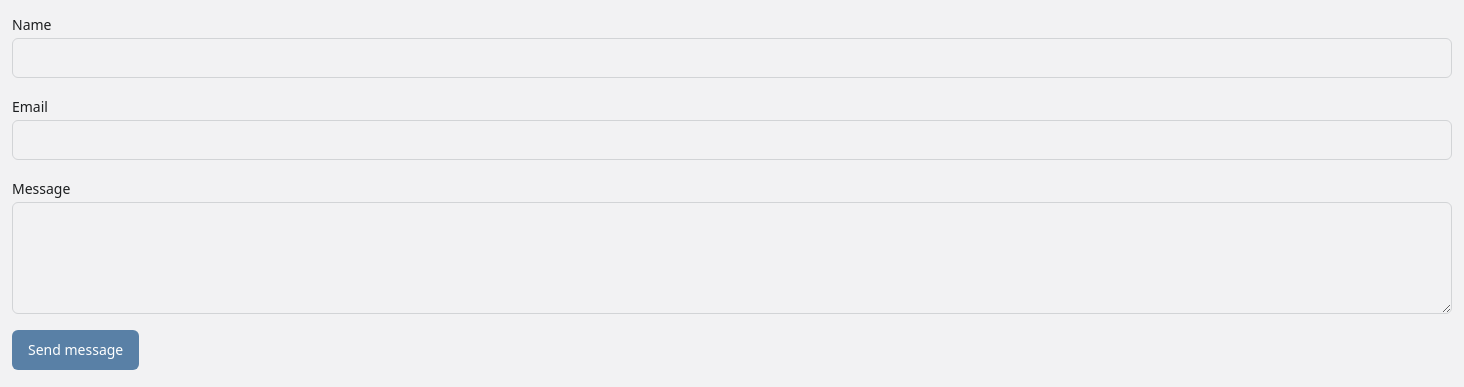
Test: ContactForm › surfaces a recoverable error when delivery fails
This screenshot has width=1464, height=387.
Type "Ada Lovelace" into the field labelled "Name" at (732, 58), box [12,38,1452,78]
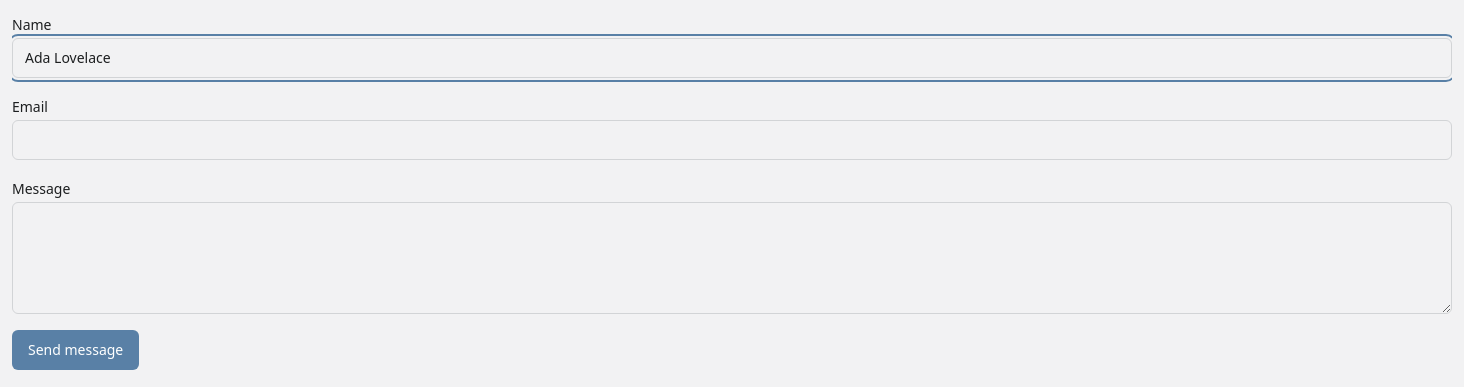
Type "ada@example.com" into the field labelled "Email" at (732, 140), box [12,120,1452,160]
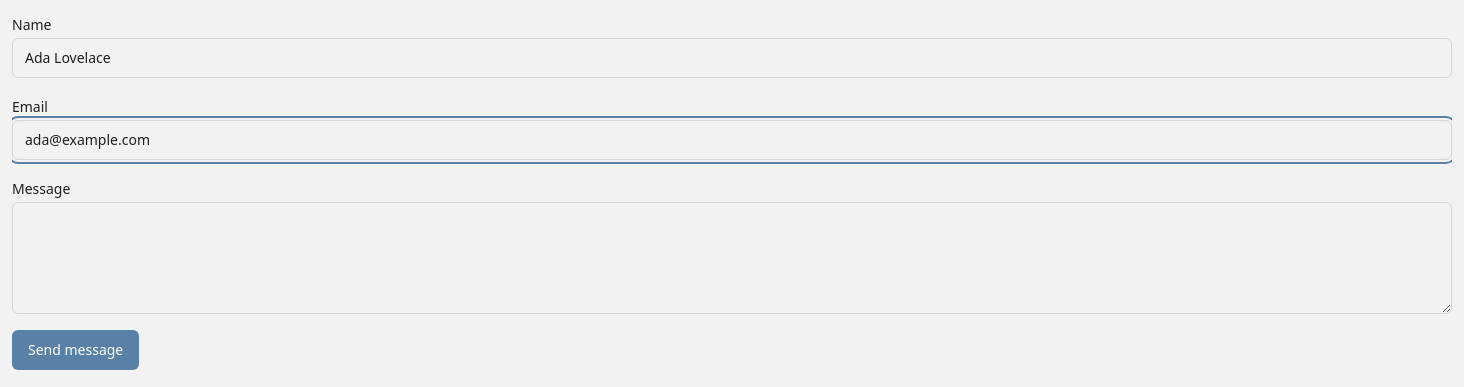
Type "A message long enough to pass validation." into the text box labelled "Message" at (732, 258), box [12,202,1452,314]
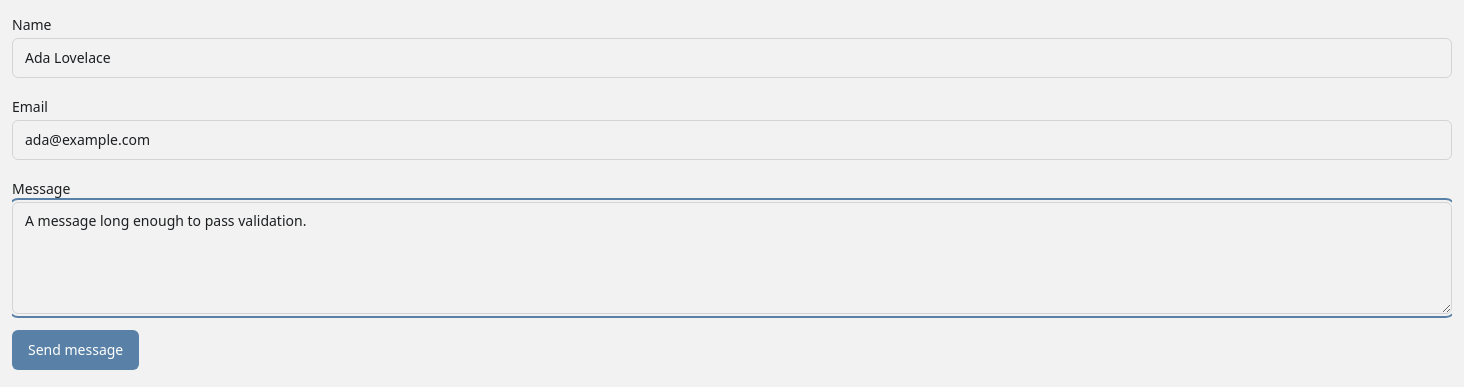
Click the button "Send message" at (76, 350), box [12,330,139,370]
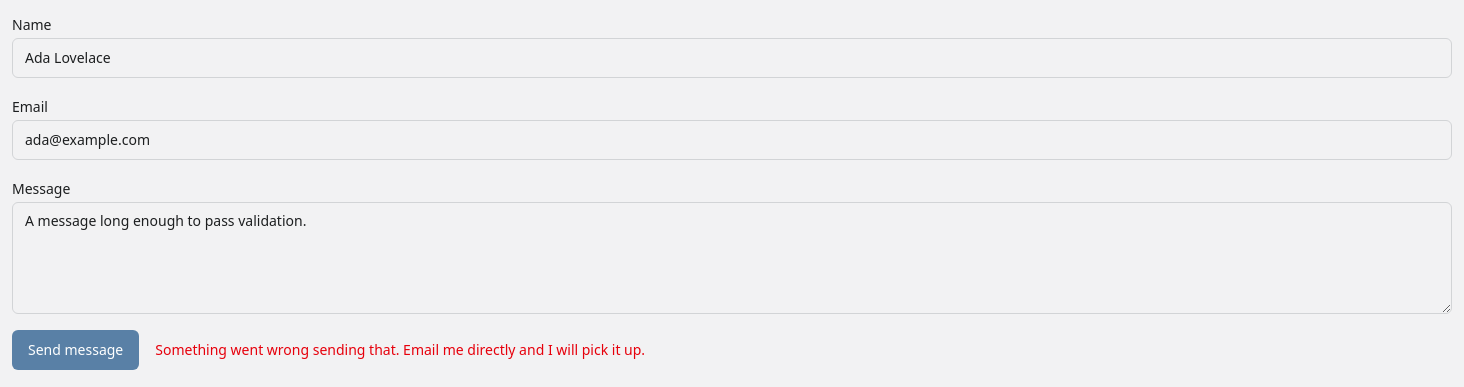
Expected: the message "Something went wrong sending that. Email me directly and I will pick it up." is shown, [155,340,645,360]
